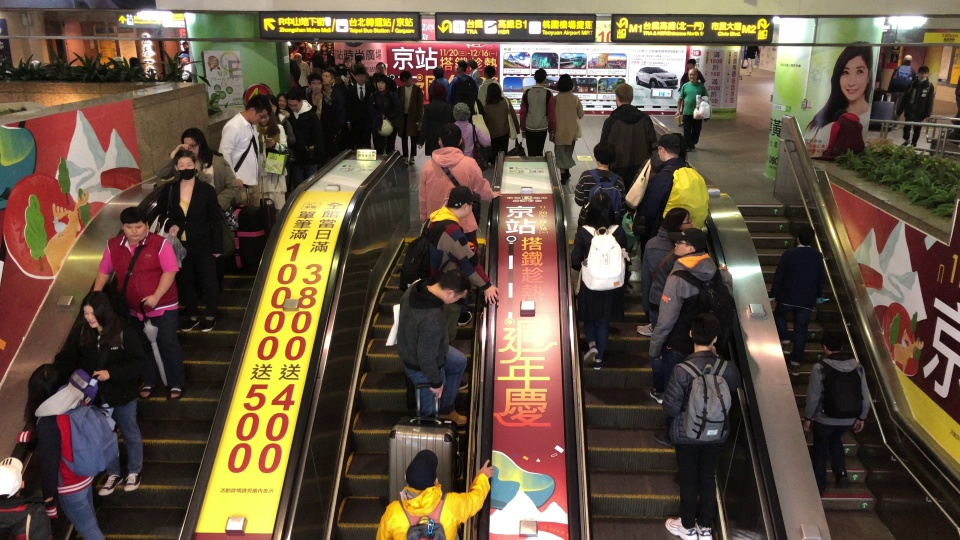person_head: (24, 361, 65, 404), (403, 449, 438, 487), (439, 268, 471, 305), (688, 311, 720, 347), (585, 191, 616, 228), (82, 289, 110, 329), (672, 227, 707, 256), (120, 206, 148, 241), (447, 185, 473, 220), (179, 126, 206, 158), (660, 206, 691, 233), (0, 463, 25, 495), (243, 94, 270, 123), (656, 133, 682, 161), (437, 122, 463, 148), (173, 149, 196, 178), (593, 141, 616, 165), (821, 330, 844, 353), (614, 82, 634, 107), (794, 224, 816, 246), (452, 102, 471, 122), (257, 101, 272, 124), (306, 72, 323, 92), (556, 73, 573, 92), (287, 91, 303, 111), (672, 132, 686, 154), (485, 82, 502, 100), (430, 83, 447, 99), (320, 69, 335, 85), (533, 68, 547, 85), (375, 74, 388, 91), (482, 64, 496, 79), (353, 67, 366, 83), (455, 58, 468, 74), (916, 65, 929, 80), (399, 70, 411, 85), (268, 96, 279, 112), (276, 93, 286, 109), (432, 66, 444, 78), (902, 55, 914, 67), (375, 61, 386, 73), (129, 56, 139, 68), (342, 57, 352, 69), (468, 59, 477, 72), (688, 68, 697, 80), (113, 56, 124, 65), (179, 54, 189, 63), (686, 58, 696, 67), (294, 53, 302, 63), (354, 55, 363, 63), (182, 41, 189, 49), (321, 43, 327, 50)
person_vbox: (647, 227, 735, 449), (92, 207, 188, 405), (16, 361, 121, 540), (660, 309, 741, 540), (417, 122, 503, 327), (155, 126, 239, 301), (80, 289, 144, 497), (155, 149, 224, 333), (395, 268, 472, 429), (802, 329, 871, 498), (374, 449, 493, 540), (638, 207, 691, 403), (570, 191, 627, 372), (420, 185, 500, 306), (767, 222, 825, 375), (628, 132, 691, 268), (643, 133, 709, 242), (216, 94, 272, 211), (599, 82, 657, 190), (573, 141, 626, 234), (548, 73, 584, 186), (0, 462, 50, 540), (255, 101, 288, 210), (519, 68, 557, 157), (286, 92, 323, 183), (896, 62, 935, 148), (482, 82, 520, 165), (674, 67, 710, 153), (419, 82, 453, 157), (368, 75, 400, 154), (398, 70, 424, 166), (451, 101, 491, 159), (345, 67, 373, 149), (320, 70, 346, 153), (886, 55, 915, 128), (677, 58, 706, 125), (268, 97, 296, 147), (448, 58, 478, 103), (306, 72, 332, 122), (476, 64, 503, 106), (373, 62, 397, 90), (293, 53, 310, 88), (428, 66, 449, 91), (746, 44, 759, 77), (179, 53, 191, 80), (468, 58, 481, 82), (321, 42, 331, 62), (353, 55, 366, 69)
